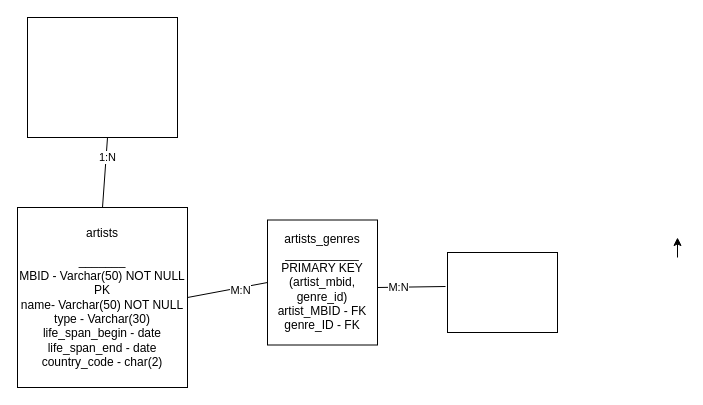
Image size: 703x405. Some labels were removed from this diagram. The shapes that lost their labels are listed below. From the top down, each one's centre as x and y in pixels, then its label:
At pixel 102 77: "countries _________ iso3166 - PK char(2) country - Varchar(100)".
At pixel 502 292: "genres _______ id - PK UUID genre - Varchar(50)".
